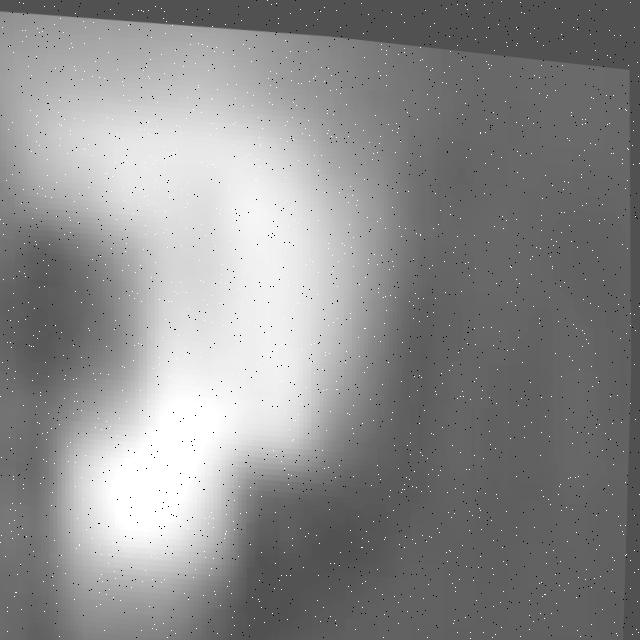person: (1, 1, 426, 640)
